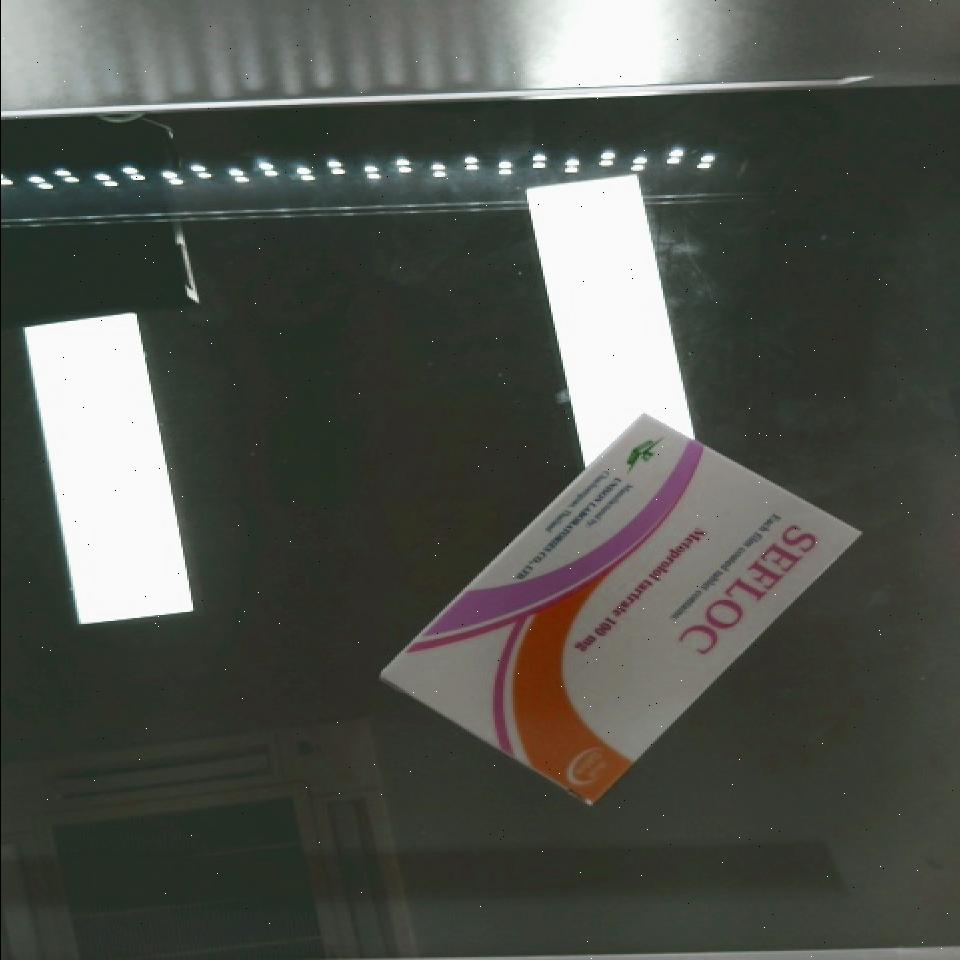medicine_box: (372, 355, 858, 847)
medicine_label_obb: (645, 482, 854, 695)
